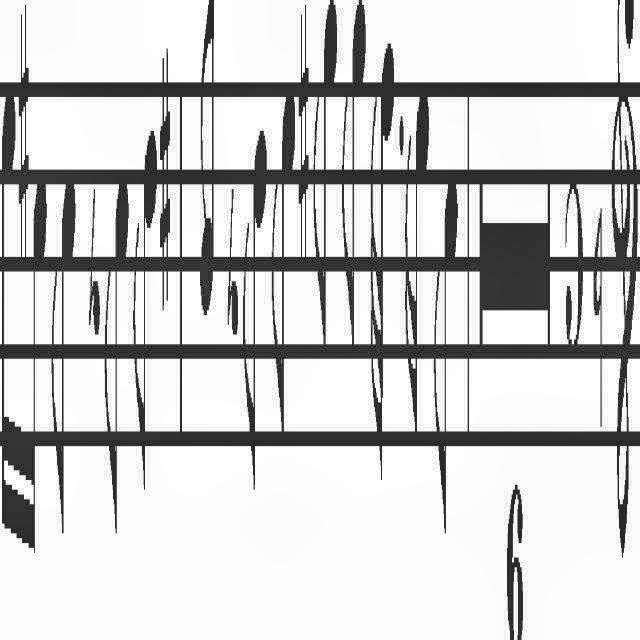Bass-clef: (610, 0, 640, 588)
Bemol: (591, 177, 605, 466)
Diez: (296, 0, 312, 292), (17, 0, 31, 292), (160, 12, 172, 328)
Eighth-note: (432, 152, 466, 572), (242, 84, 270, 492), (132, 98, 160, 506), (51, 159, 81, 536), (270, 42, 296, 466), (102, 138, 130, 530), (313, 1, 341, 360), (194, 0, 220, 378), (342, 0, 368, 354)
Eighth-rest: (86, 150, 102, 364), (224, 171, 240, 357)
Sixteenth-note: (404, 64, 432, 468), (1, 58, 20, 542), (28, 157, 48, 558)
